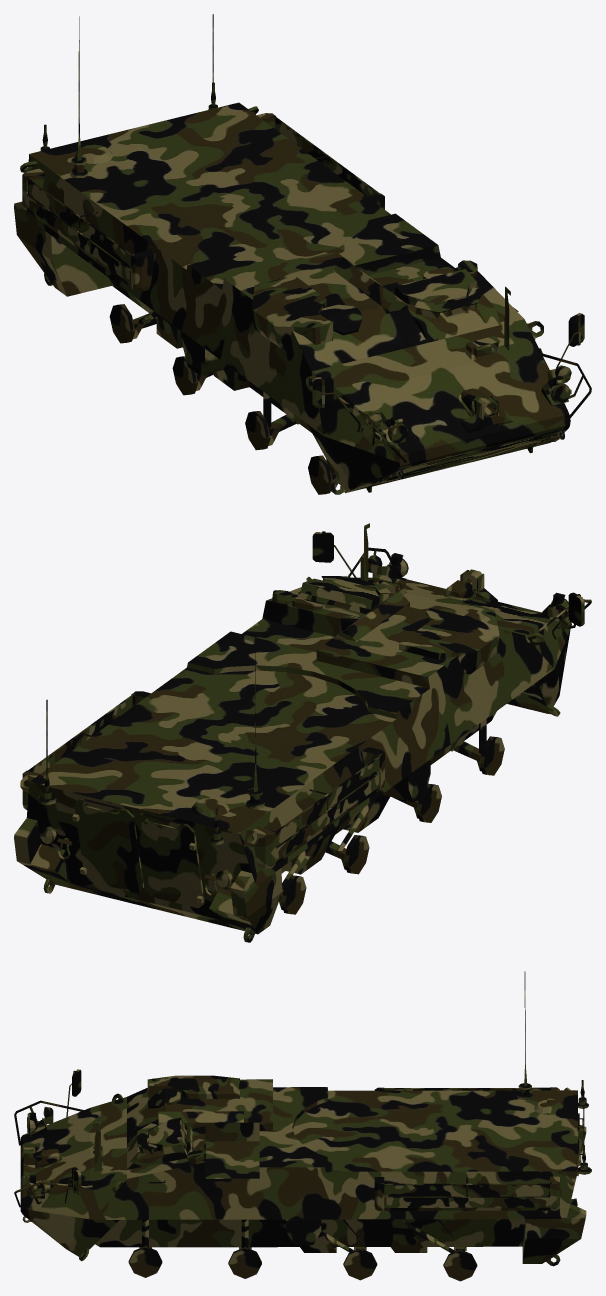
The model's file is vehiculo.obj.
3 renders of one model, top to bottom at view 1: azimuth 30°, elevation 25°; view 2: azimuth 150°, elevation 25°; view 3: azimuth 270°, elevation 25°, orthographic. The views are drawn at different scales.
Visible parts, largest first — view 1: Object03.001; view 2: Object03.001; view 3: Object03.001.
Boxes of the visible parts, <box> form: Object03.001: <box>14,14,591,494</box>; Object03.001: <box>14,523,591,942</box>; Object03.001: <box>14,971,591,1281</box>.
Bounding box in the file's own units: 5.31 × 5.69 × 12.33.
